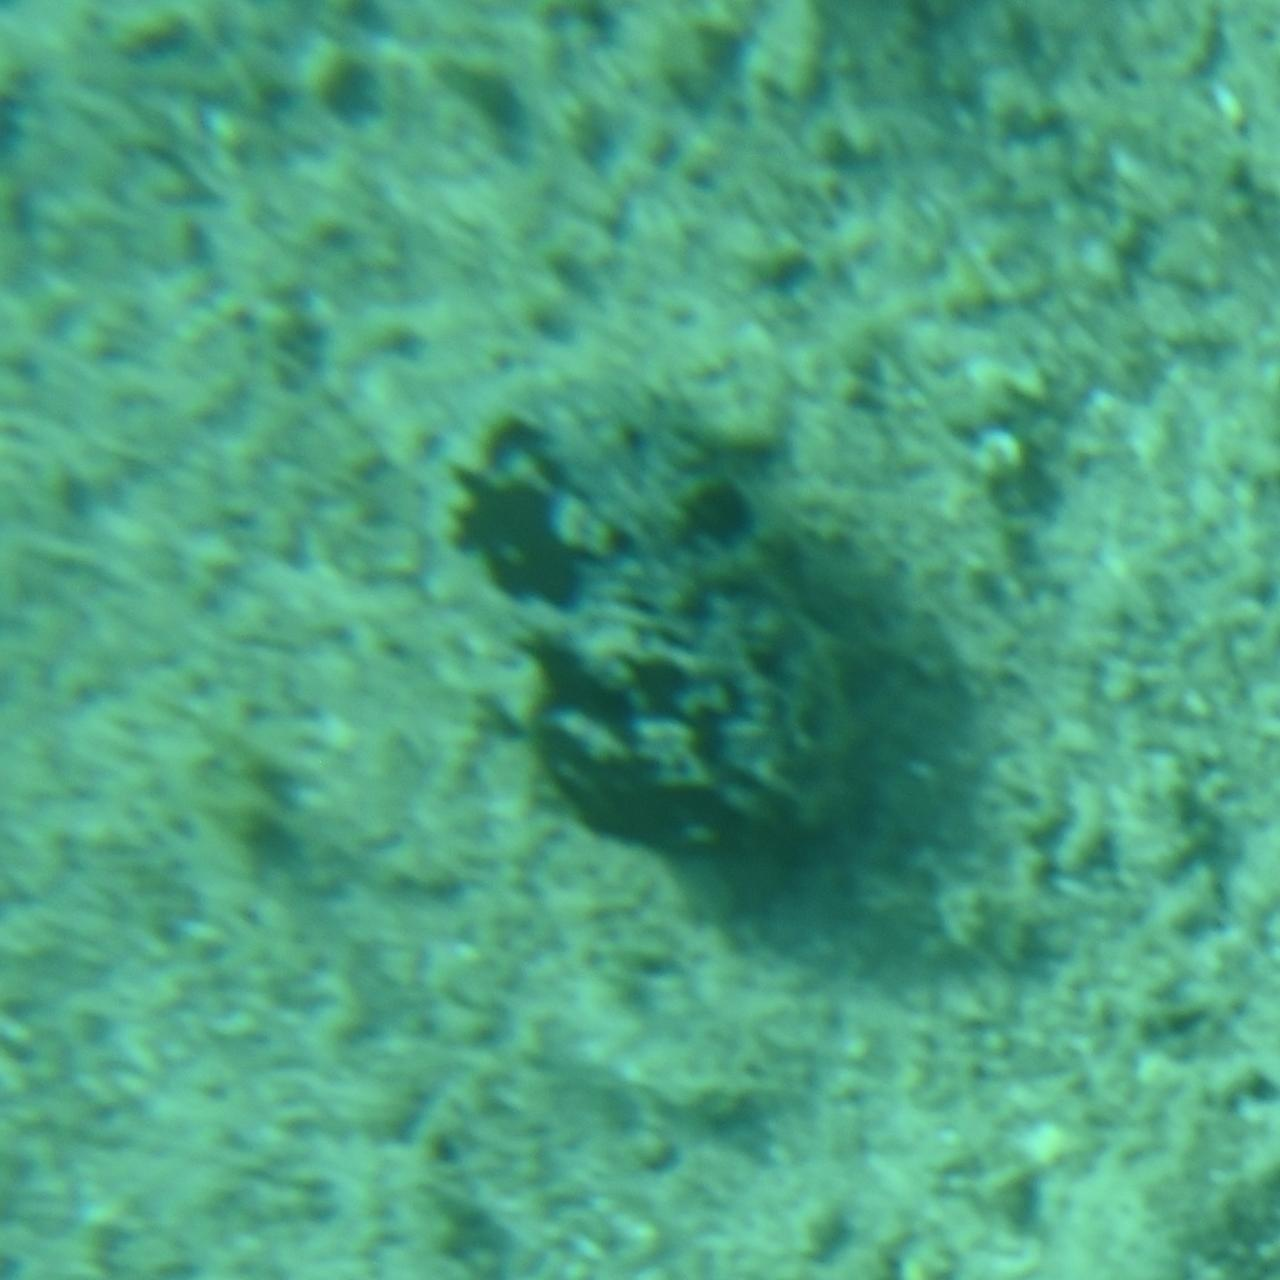Keratosa -cfr Sarcotragus-: (418, 381, 862, 899)
